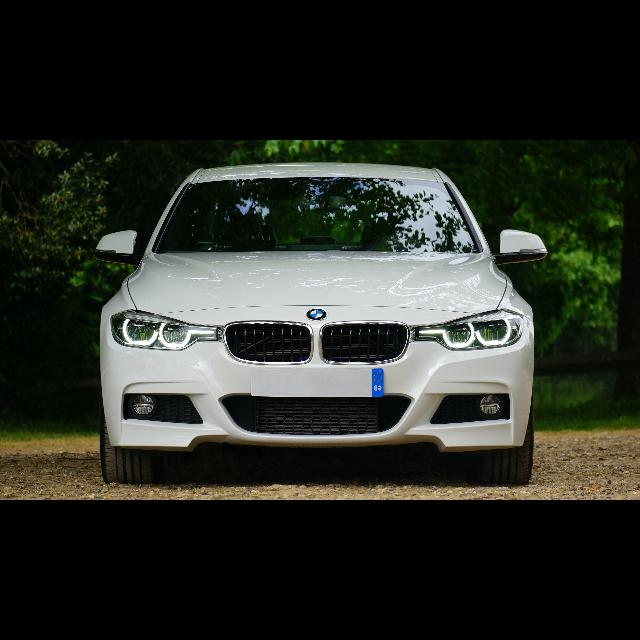cars: (84, 153, 556, 487)
